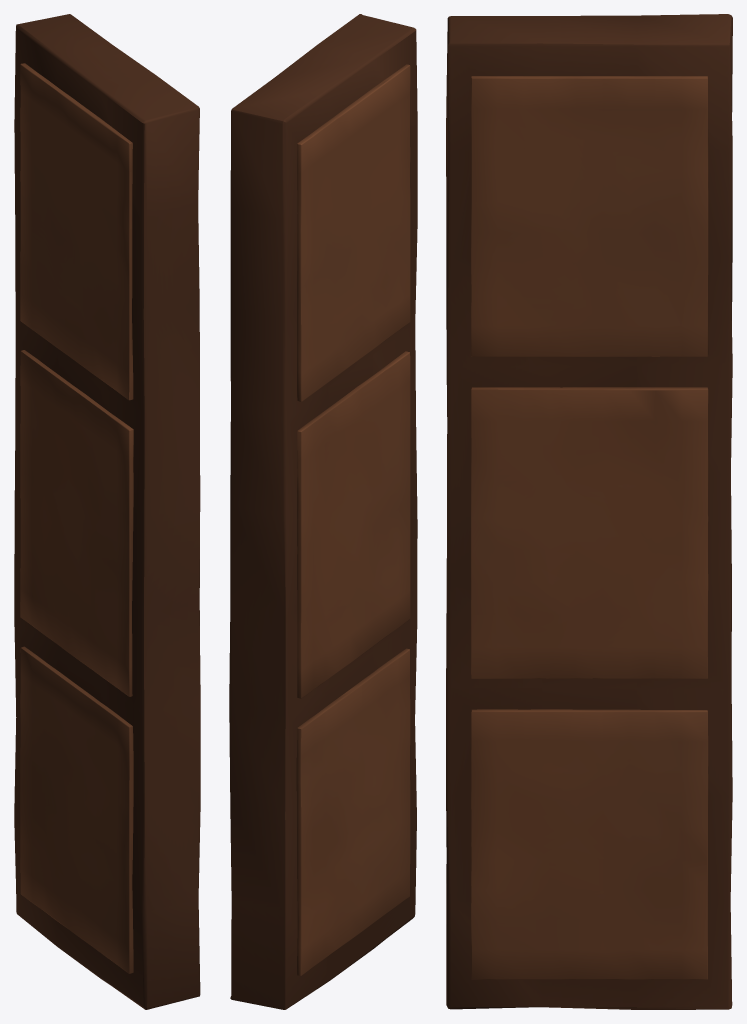
File: den_dresser_wall.glb
The picture shows the model from 3 angles, left to right: view 1: azimuth 30°, elevation 25°; view 2: azimuth 150°, elevation 25°; view 3: azimuth 270°, elevation 25°; orthographic projection. The views are drawn at different scales.
Parts seen in each view (by area): view 1: den_dresser_wall; view 2: den_dresser_wall; view 3: den_dresser_wall.
Part boxes in pixels (x1,y1,x2,y2): den_dresser_wall: (14,14,200,1009); den_dresser_wall: (229,14,417,1009); den_dresser_wall: (446,14,732,1009).
Size of the model in its own units: 6.98 by 90.23 by 24.22.
